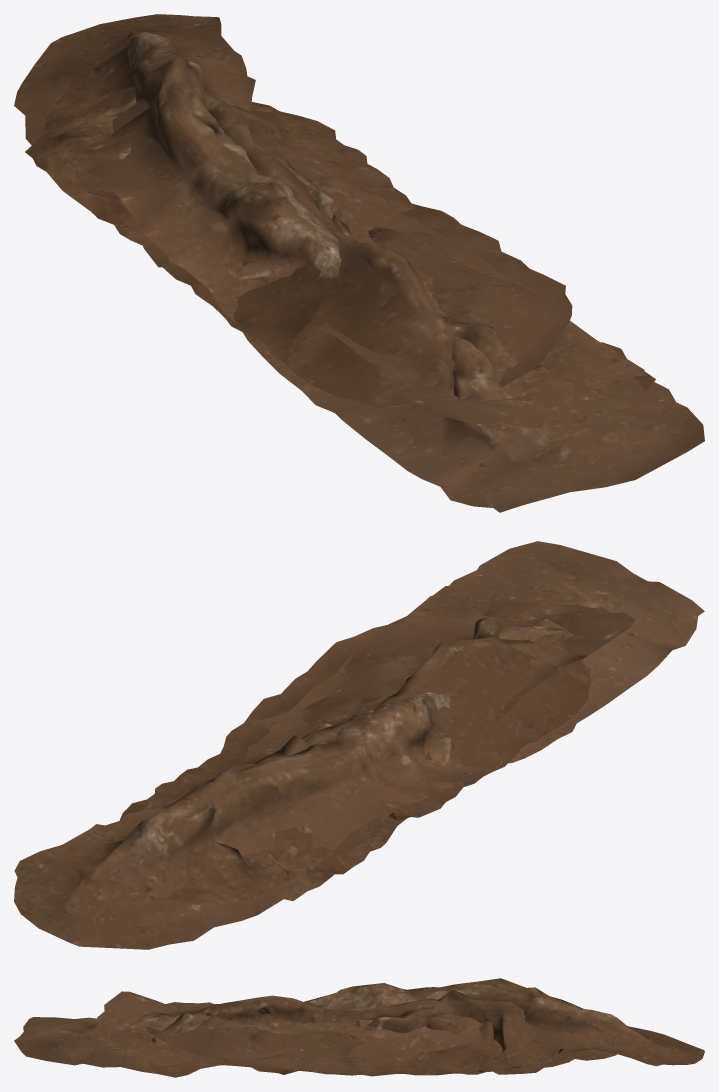
File: root_cluster_02.glb
3 renders of one model, top to bottom at view 1: azimuth 30°, elevation 25°; view 2: azimuth 150°, elevation 25°; view 3: azimuth 270°, elevation 25°, orthographic. The views are drawn at different scales.
Visible parts, largest first — view 1: b, c, a; view 2: b, c, a; view 3: b, c, a.
Part boxes in pixels (left/top/right/bottom): b: left=14, top=14, right=704, bottom=512; c: left=72, top=106, right=572, bottom=407; a: left=25, top=85, right=655, bottom=428; b: left=14, top=541, right=704, bottom=949; c: left=142, top=615, right=590, bottom=865; a: left=119, top=585, right=634, bottom=903; b: left=14, top=978, right=704, bottom=1067; c: left=145, top=995, right=563, bottom=1076; a: left=93, top=990, right=616, bottom=1077.
Size of the model in its own units: 0.3292 by 0.1379 by 1.25.
Materials: 1 (1 with a texture image).
